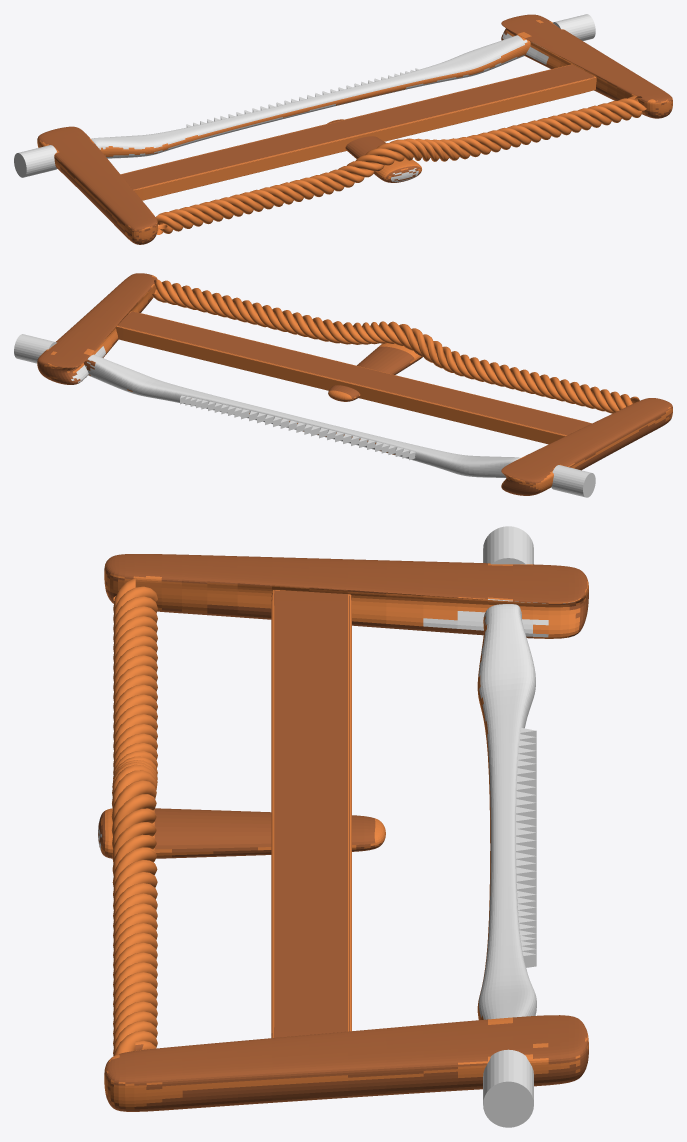
The picture shows the model from 3 angles, top to bottom: view 1: azimuth 30°, elevation 25°; view 2: azimuth 150°, elevation 25°; view 3: azimuth 270°, elevation 25°; orthographic projection. The views are drawn at different scales.
Parts seen in each view (by area): view 1: 立方体; view 2: 立方体; view 3: 立方体.
Boxes of the visible parts, <box> form: 立方体: <box>14,14,672,244</box>; 立方体: <box>14,273,672,497</box>; 立方体: <box>98,526,588,1127</box>.
Bounding box in the file's own units: 145 × 10.11 × 54.33.
